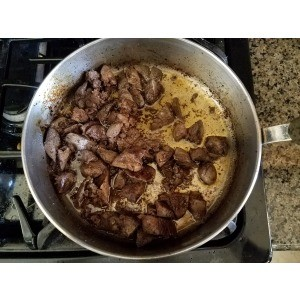liver_brain food: (59, 102, 176, 193)
